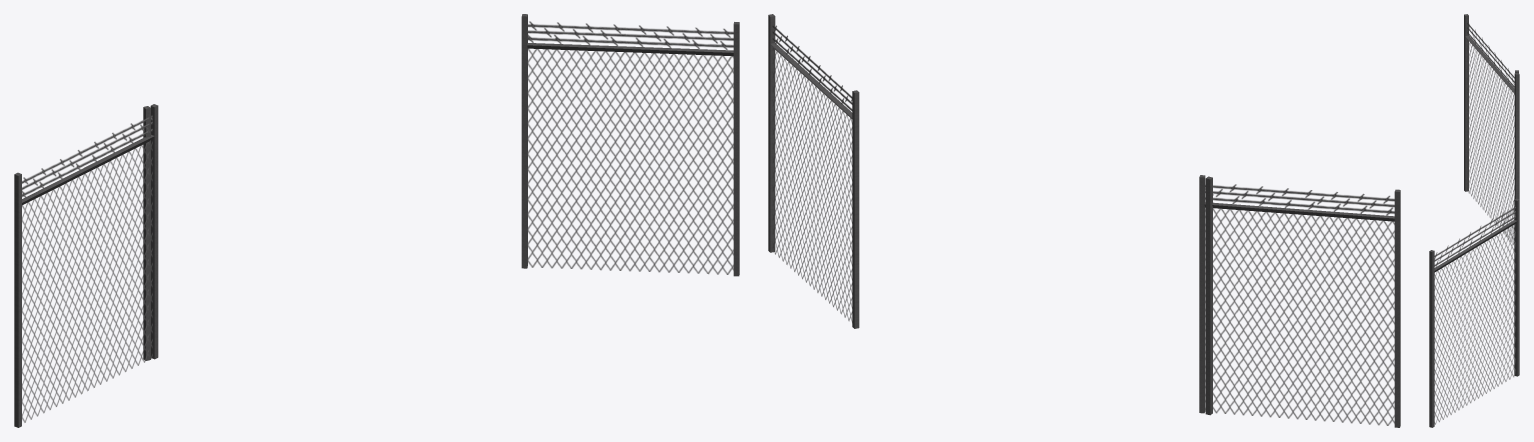
Rendered from MFenceg1.glb.
The picture shows the model from 3 angles, left to right: view 1: azimuth 30°, elevation 25°; view 2: azimuth 150°, elevation 25°; view 3: azimuth 270°, elevation 25°; orthographic projection. The views are drawn at different scales.
Parts seen in each view (by area): view 1: _MFenceg1; view 2: _MFenceg1; view 3: _MFenceg1.
Boxes of the visible parts, x1,y1,x2,y2 form: _MFenceg1: (14, 14, 739, 427); _MFenceg1: (768, 14, 1400, 427); _MFenceg1: (1429, 14, 1519, 427).
Size of the model in its own units: 14.53 by 5 by 2.33.
1 material, 1 textured.
